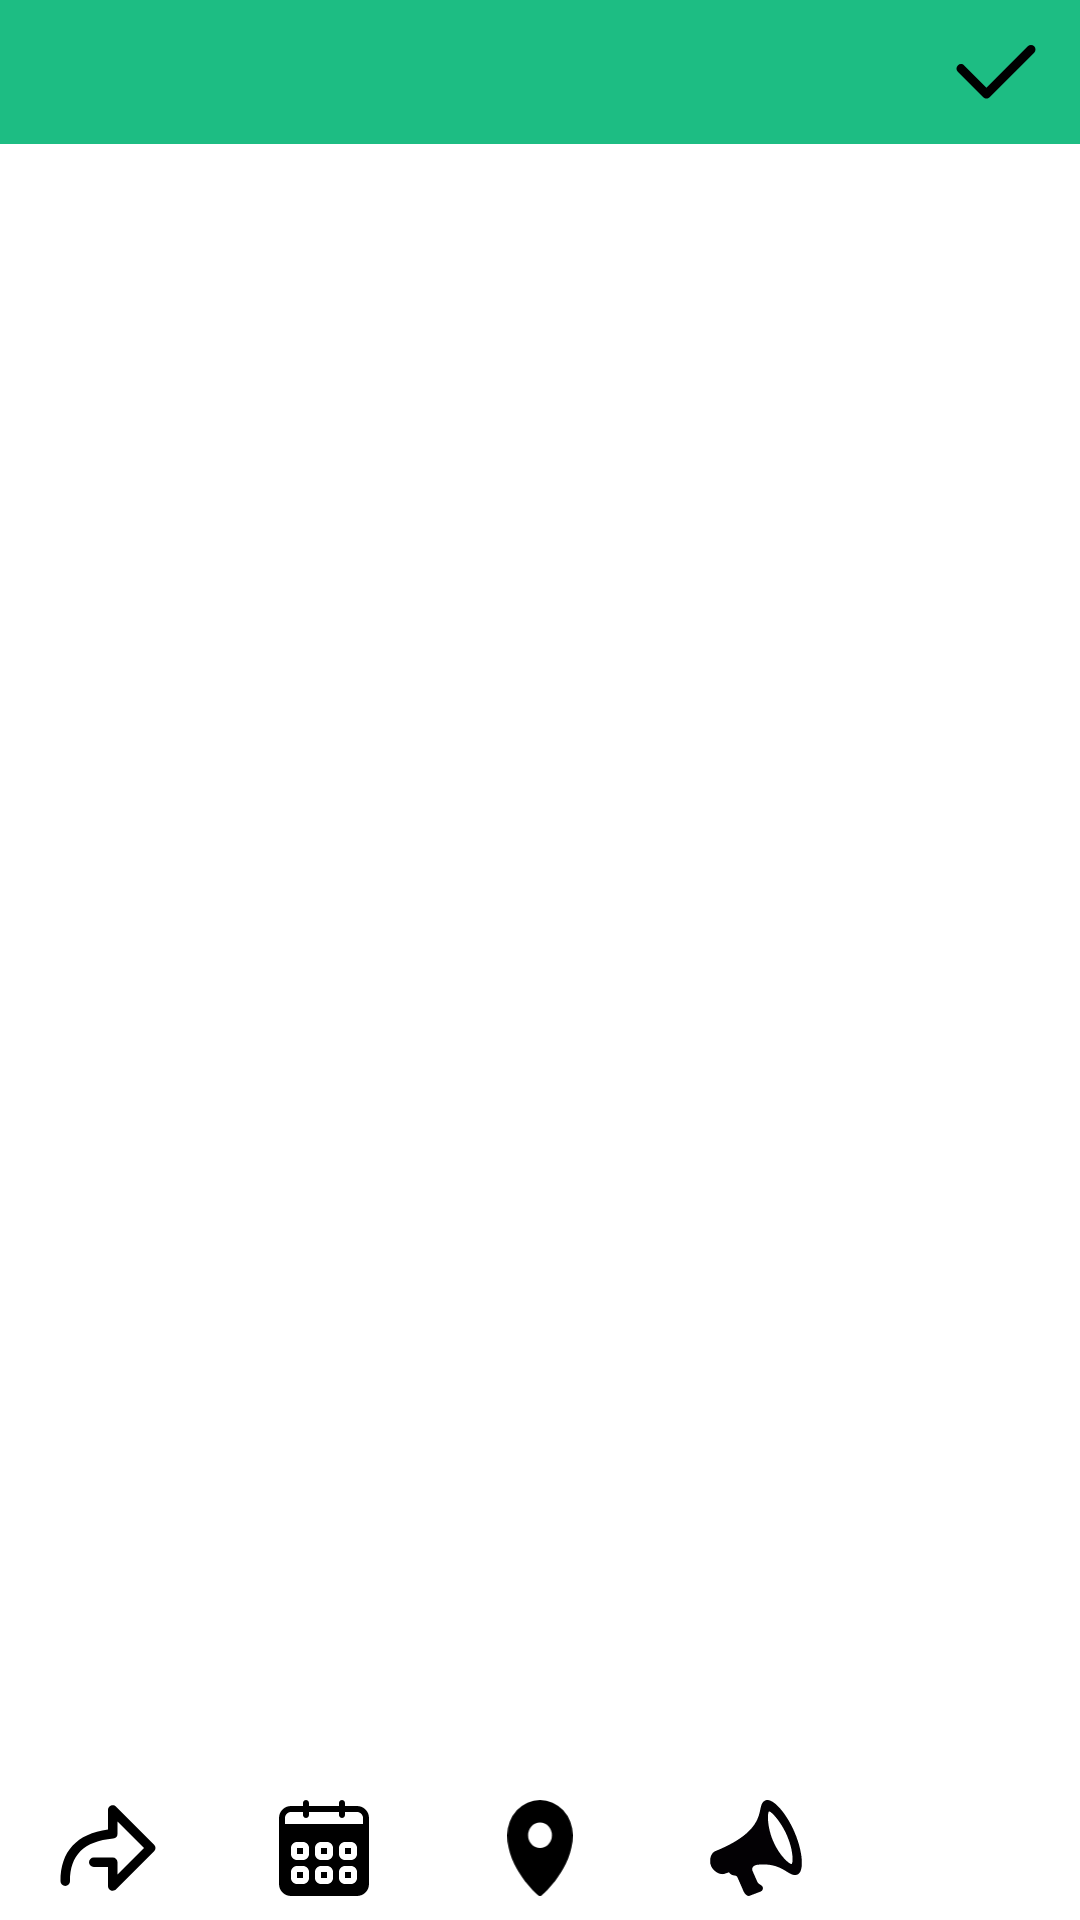

Locate icon controls on the screen. Image size 1080 x 1920, boxes as (x1, y1, x2, y2).
apply: (956, 45, 1036, 99)
events: (279, 1800, 369, 1896)
pin: (507, 1800, 573, 1896)
